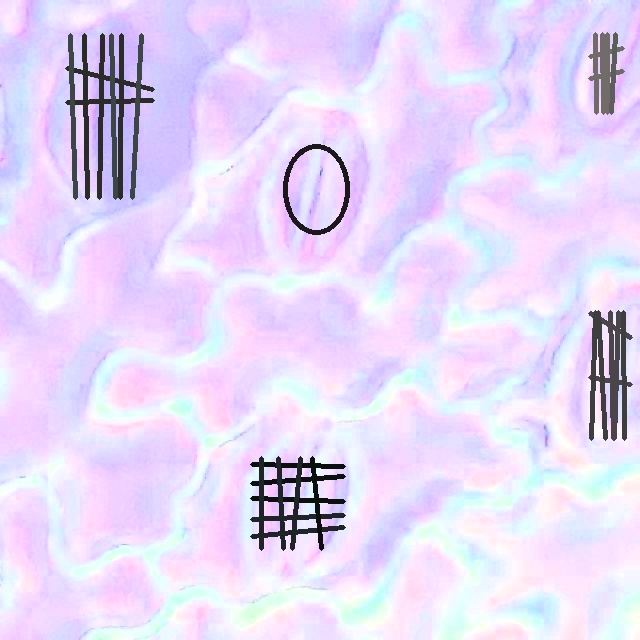close: (588, 32, 624, 114)
open: (65, 33, 154, 199), (250, 456, 345, 550), (283, 143, 349, 236), (588, 311, 632, 440)
